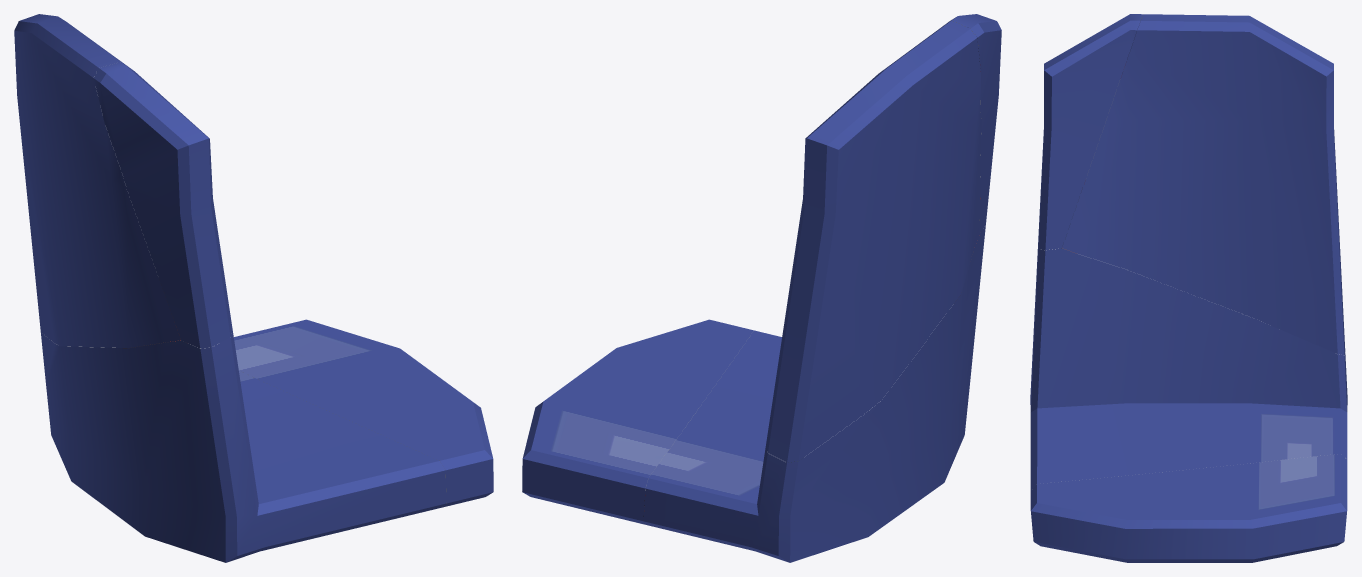
The model's file is Chair_DEST.fbx.
3 renders of one model, left to right at view 1: azimuth 30°, elevation 25°; view 2: azimuth 150°, elevation 25°; view 3: azimuth 270°, elevation 25°, orthographic. The views are drawn at different scales.
Parts seen in each view (by area): view 1: ghe2_cell.001, ghe2_cell.002, ghe2_cell.003, ghe2_cell; view 2: ghe2_cell.002, ghe2_cell.001, ghe2_cell.003, ghe2_cell; view 3: ghe2_cell.002, ghe2_cell.001, ghe2_cell.003, ghe2_cell.
Boxes of the visible parts, left/top/right/bottom form: ghe2_cell.001: left=40, top=331, right=446, bottom=562; ghe2_cell.002: left=14, top=14, right=180, bottom=348; ghe2_cell.003: left=234, top=319, right=493, bottom=507; ghe2_cell: left=93, top=62, right=232, bottom=348; ghe2_cell.002: left=766, top=20, right=981, bottom=462; ghe2_cell.001: left=643, top=224, right=985, bottom=562; ghe2_cell.003: left=522, top=319, right=753, bottom=524; ghe2_cell: left=947, top=14, right=1001, bottom=233; ghe2_cell.002: left=1062, top=14, right=1345, bottom=354; ghe2_cell.001: left=1030, top=246, right=1347, bottom=490; ghe2_cell.003: left=1030, top=454, right=1347, bottom=562; ghe2_cell: left=1038, top=14, right=1143, bottom=250.
Size of the model in its own units: 829 by 986 by 704.
